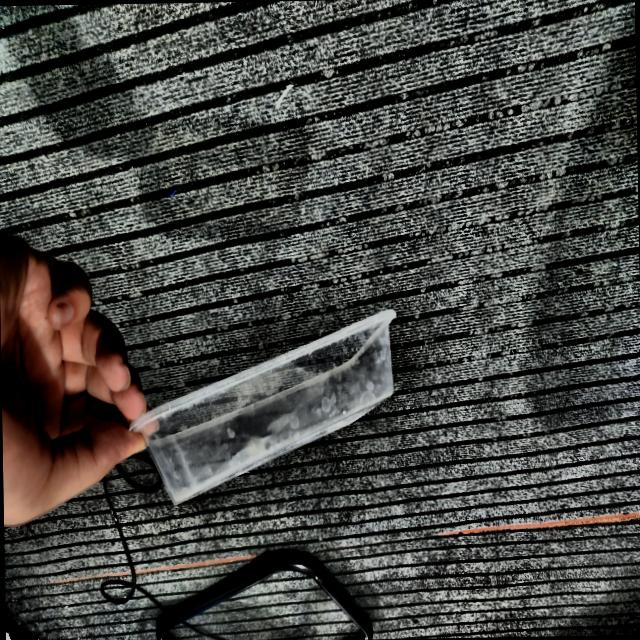plastic container: (131, 309, 395, 504)
